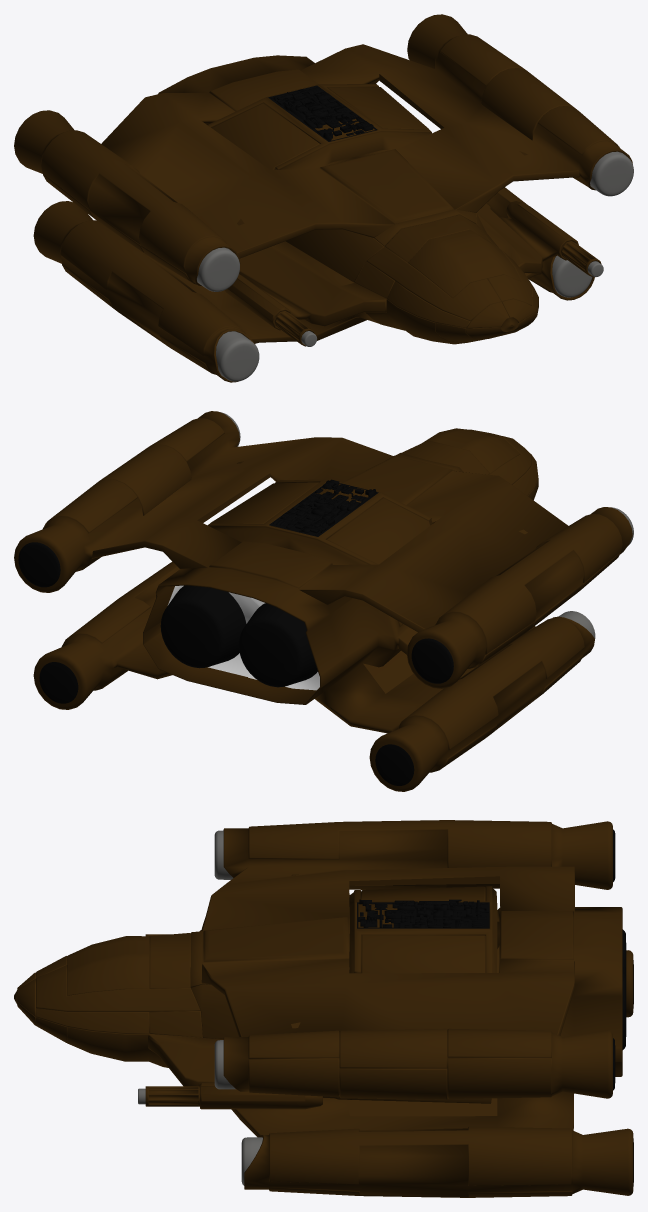
The model's file is ENT3320_Basic Enemy #6.fbx.
3 renders of one model, top to bottom at view 1: azimuth 30°, elevation 25°; view 2: azimuth 150°, elevation 25°; view 3: azimuth 270°, elevation 25°, orthographic. The views are drawn at different scales.
Parts seen in each view (by area): view 1: nave_entera, PANEL, turbina.2, turbina, turbina.3, turbina.1; view 2: nave_entera, propulsor_trasero, propulsor_trasero.1, PANEL, propulsor_trasero.5, propulsor_trasero.2, propulsor_trasero.3, propulsor_trasero.4; view 3: nave_entera, PANEL, turbina, turbina.1, turbina.3.
Boxes of the visible parts, bbox=[...] form: nave_entera: bbox=[14, 14, 632, 382]; PANEL: bbox=[268, 85, 377, 141]; turbina.2: bbox=[216, 331, 259, 381]; turbina: bbox=[590, 151, 633, 196]; turbina.3: bbox=[197, 247, 239, 291]; turbina.1: bbox=[552, 255, 592, 297]; nave_entera: bbox=[14, 411, 632, 791]; propulsor_trasero: bbox=[160, 585, 246, 668]; propulsor_trasero.1: bbox=[239, 603, 317, 687]; PANEL: bbox=[269, 479, 378, 536]; propulsor_trasero.5: bbox=[411, 638, 453, 683]; propulsor_trasero.2: bbox=[18, 542, 60, 587]; propulsor_trasero.3: bbox=[39, 662, 78, 703]; propulsor_trasero.4: bbox=[375, 744, 414, 785]; nave_entera: bbox=[14, 820, 633, 1197]; PANEL: bbox=[357, 899, 489, 928]; turbina: bbox=[214, 1040, 235, 1089]; turbina.1: bbox=[241, 1137, 262, 1185]; turbina.3: bbox=[214, 830, 233, 879].
Bounding box in the file's own units: 9258 × 3500 × 10148.
